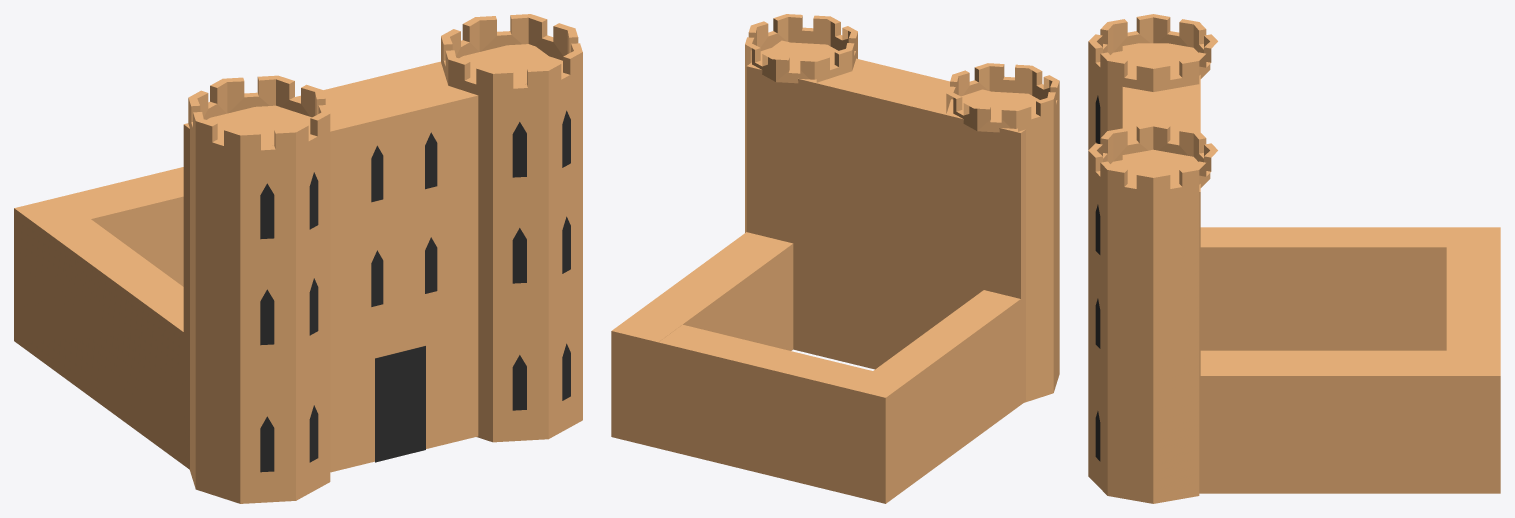
File: barracks.fbx
3 views of the same model, side by side, from view 1: azimuth 30°, elevation 25°; view 2: azimuth 150°, elevation 25°; view 3: azimuth 270°, elevation 25° (orthographic). The views are drawn at different scales.
Parts seen in each view (by area): view 1: Cylinder; view 2: Cylinder; view 3: Cylinder.
Part boxes in pixels (x1,y1,x2,y2): Cylinder: (14,14,582,503); Cylinder: (611,14,1059,503); Cylinder: (1088,14,1500,503).
Size of the model in its own units: 51.5 by 47.75 by 54.69.
